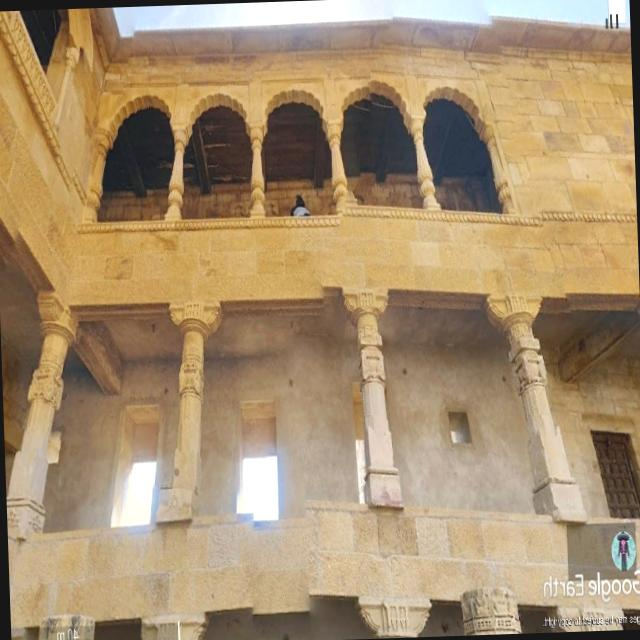objects-ruins-artifacts: (213, 59, 580, 298), (70, 402, 316, 592)
